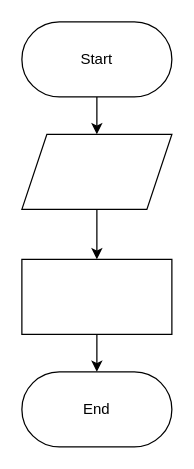
Image size: 194x469. Some labels were removed from this diagram. Here are the shapes that lost their labels. From the top down, the box of each, then its label:
(21, 133, 172, 209): String userInput
(21, 258, 172, 334): print(userInput [1])
